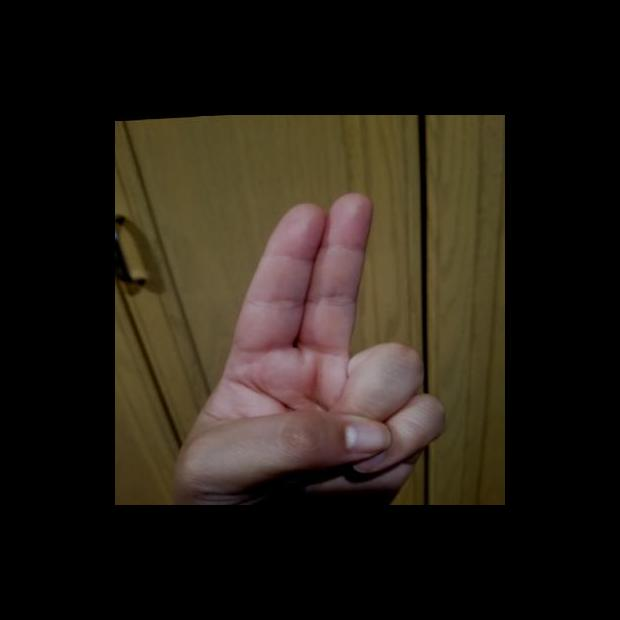T: (153, 184, 462, 504)
